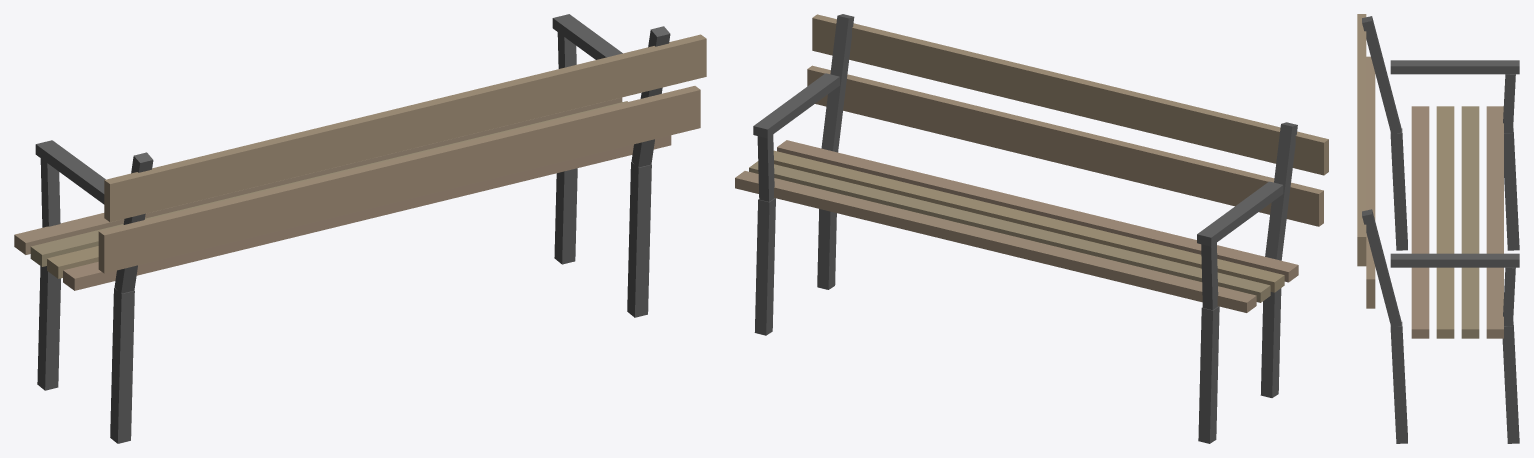
Rendered from SM_BM_BP_Bench.glb.
3 views of the same model, side by side, from view 1: azimuth 30°, elevation 25°; view 2: azimuth 150°, elevation 25°; view 3: azimuth 270°, elevation 25° (orthographic). The views are drawn at different scales.
Parts seen in each view (by area): view 1: SM_BM_BP_Bench; view 2: SM_BM_BP_Bench; view 3: SM_BM_BP_Bench.
Part boxes in pixels (box(x1,y1,x2,y2)): SM_BM_BP_Bench: box(14, 14, 706, 443); SM_BM_BP_Bench: box(735, 14, 1328, 443); SM_BM_BP_Bench: box(1357, 14, 1519, 443).
Size of the model in its own units: 1.8 by 0.865 by 0.5529.
